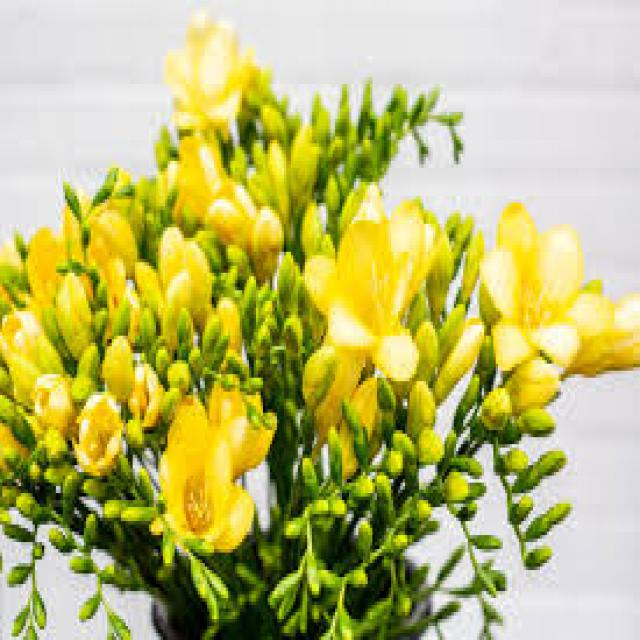freesia: (479, 174, 634, 444), (306, 183, 434, 401), (149, 391, 268, 559), (142, 223, 222, 337)
